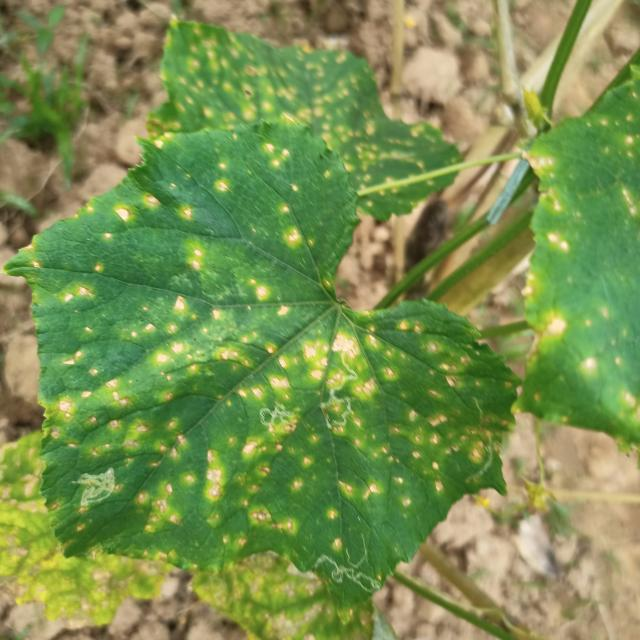disease_cucumber: (28, 284, 506, 584), (528, 149, 575, 262), (109, 192, 162, 224), (280, 203, 304, 252), (543, 310, 575, 346), (621, 385, 640, 430), (264, 142, 288, 173), (188, 246, 208, 278), (249, 278, 273, 303), (577, 355, 600, 378), (216, 159, 228, 197), (180, 204, 202, 218)
